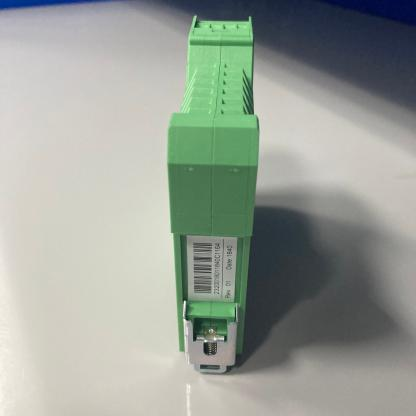SP0000011: (105, 0, 351, 397)
